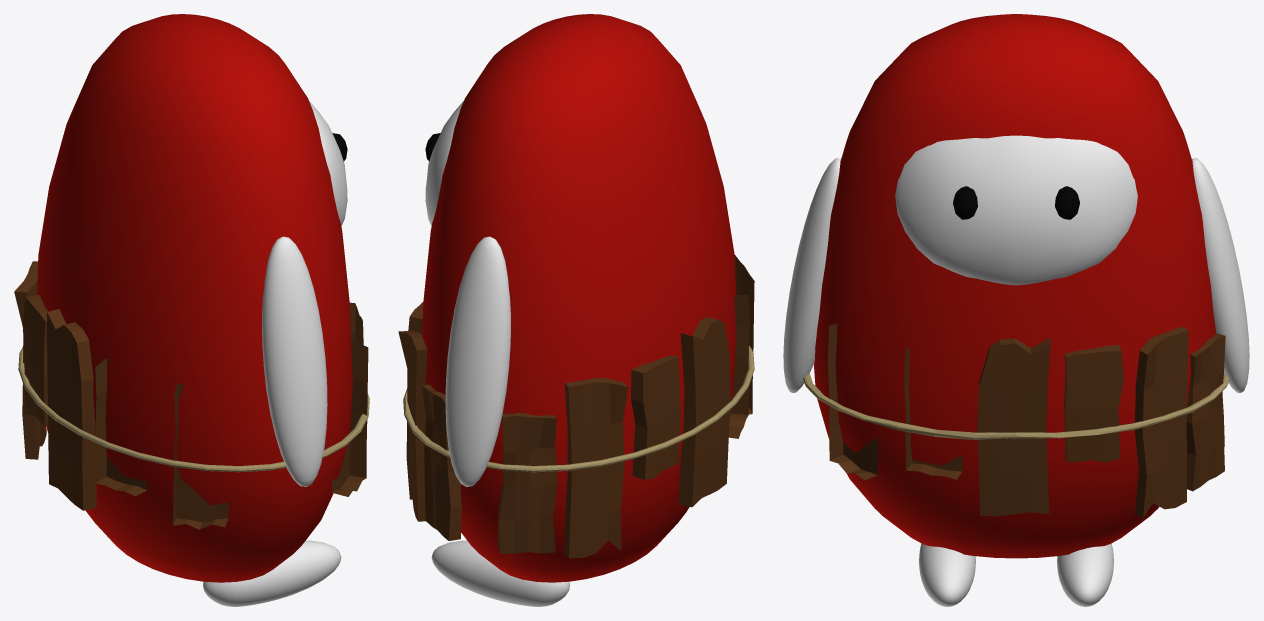
The model's file is MinionUV.fbx.
3 renders of one model, left to right at view 1: azimuth 30°, elevation 25°; view 2: azimuth 150°, elevation 25°; view 3: azimuth 270°, elevation 25°, orthographic.
Visible parts, largest first — view 1: Body, Armor, Right Arm, Right Foot, Rope, Face; view 2: Body, Armor, Left Arm, Left Foot, Rope, Face; view 3: Body, Armor, Face, Right Arm, Left Arm, Rope, Left Foot, Right Foot, Eyes.
Part boxes in pixels (x1,y1,x2,y2): Body: (37,14,352,582); Armor: (14,261,368,529); Right Arm: (262,236,327,486); Right Foot: (203,540,341,606); Rope: (18,347,369,472); Face: (309,101,347,225); Body: (422,14,736,582); Armor: (398,255,754,558); Left Arm: (445,236,510,486); Left Foot: (431,540,569,606); Rope: (403,346,754,472); Face: (425,101,463,225); Body: (814,14,1215,558); Armor: (827,323,1225,517); Face: (895,135,1137,285); Right Arm: (783,158,840,392); Left Arm: (1192,158,1249,392); Rope: (803,373,1229,439); Left Foot: (1057,543,1113,606); Right Foot: (919,543,975,606); Eyes: (953,186,1079,219).
Bounding box in the file's own units: 72.26 × 137 × 105.
